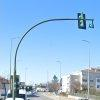traffic lights: (77, 12, 86, 29)
